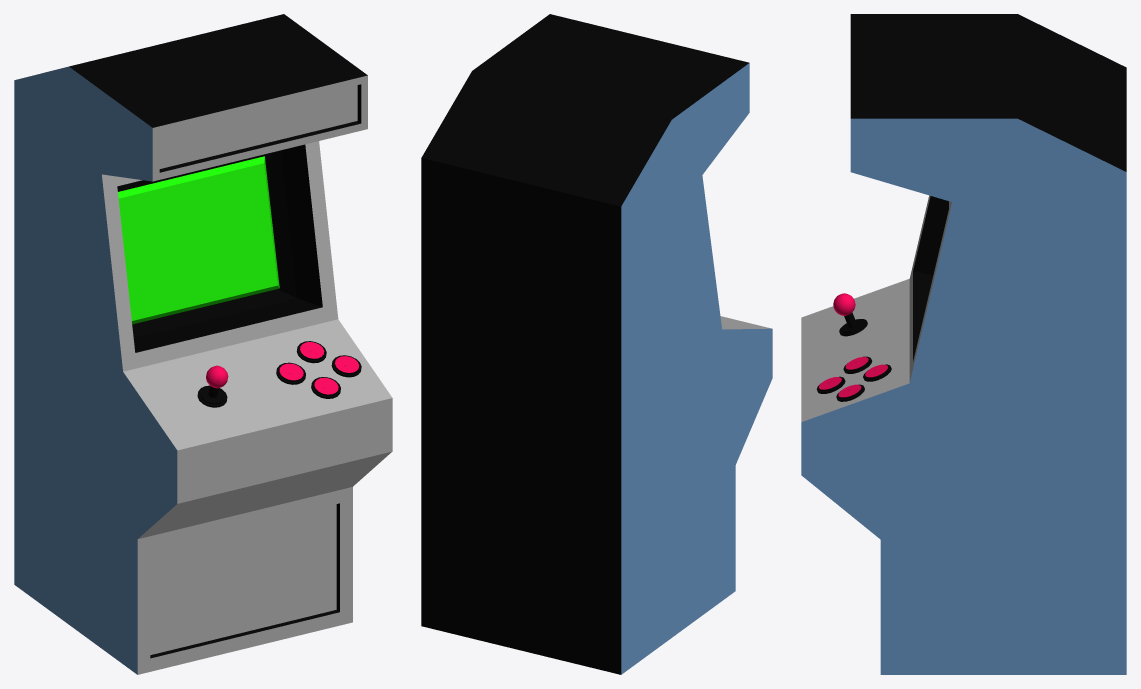
Rendered from ArcadeBox.fbx.
3 renders of one model, left to right at view 1: azimuth 30°, elevation 25°; view 2: azimuth 150°, elevation 25°; view 3: azimuth 270°, elevation 25°, orthographic. The views are drawn at different scales.
Parts seen in each view (by area): view 1: Arcade, Stick; view 2: Arcade; view 3: Arcade, Stick.
Boxes of the visible parts, x1=… form: Arcade: x1=14, y1=14, x2=392, y2=674; Stick: x1=197, y1=365, x2=228, y2=407; Arcade: x1=421, y1=14, x2=772, y2=674; Arcade: x1=801, y1=14, x2=1126, y2=674; Stick: x1=833, y1=293, x2=867, y2=336.
Size of the model in its own units: 2 by 4.96 by 2.62.
Materials: 2 (2 with a texture image).
